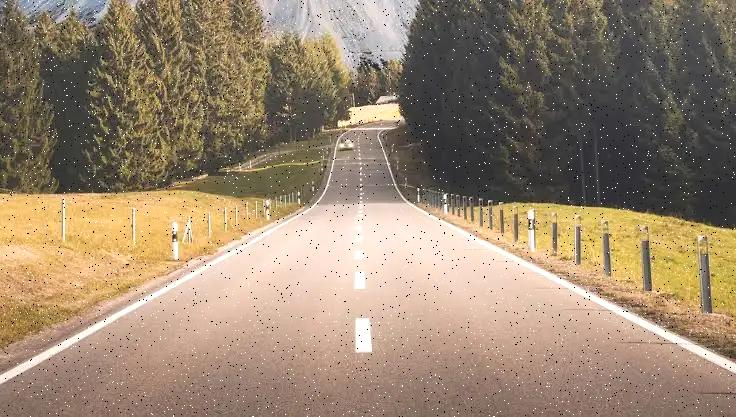car: (339, 137, 352, 150)
